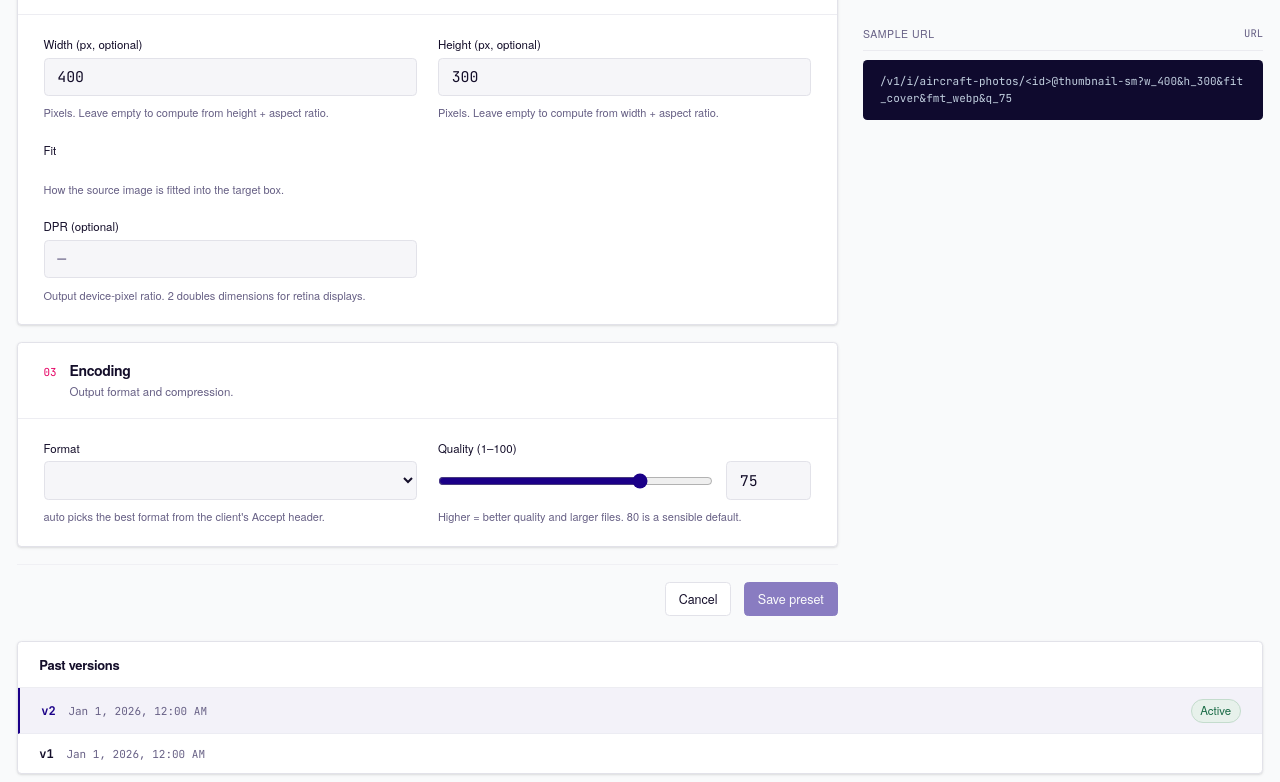
Scenario: EditPresetPage › shows 'Back to latest' in panel when a past version is selected
The width and height of the screenshot is (1280, 782).
(page scrolled)
Check: the heading "Past versions" is shown, box top-left (39, 655), bottom-right (119, 675)
Check: the text "back to latest" is not shown
// Click v1 in the panel
Click the button "v1 Jan 1, 2026, 12:00 AM" at (136, 754), box top-left (18, 734), bottom-right (1262, 773)
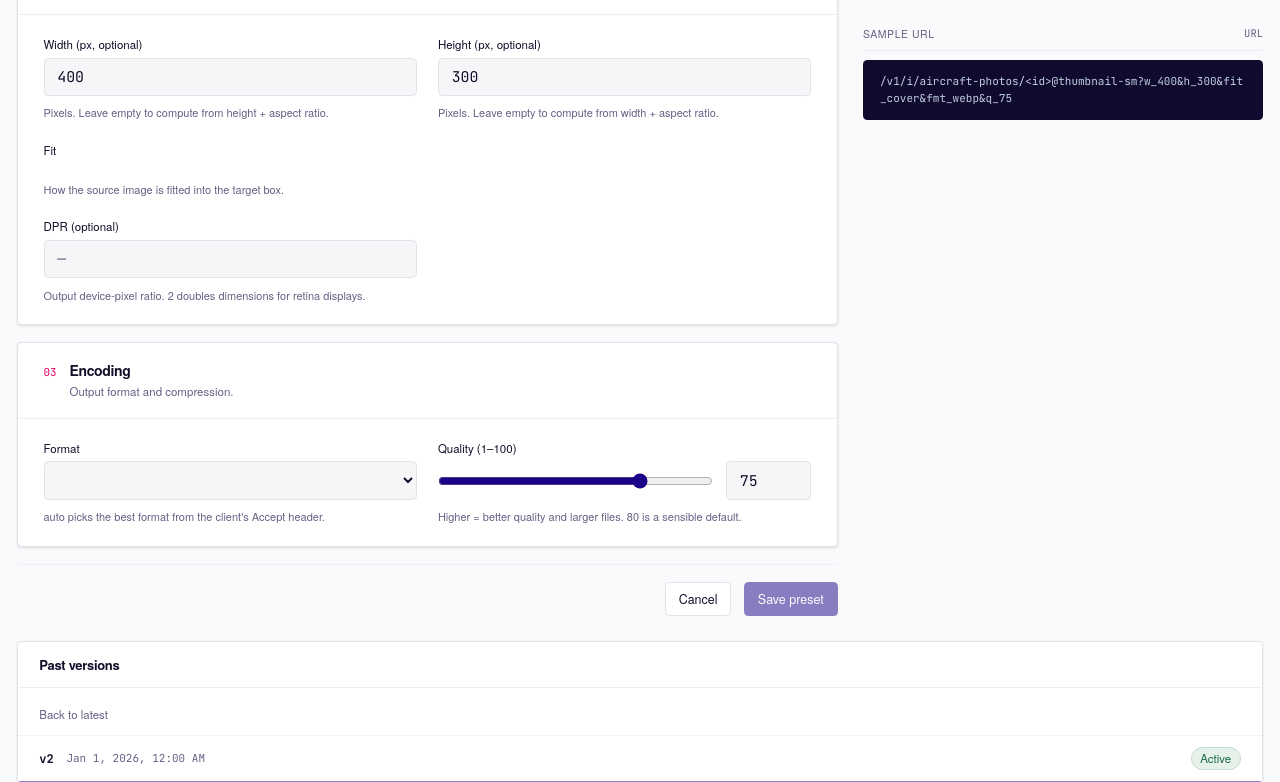
Check: the button "Back to latest" is shown, box top-left (39, 706), bottom-right (108, 723)
